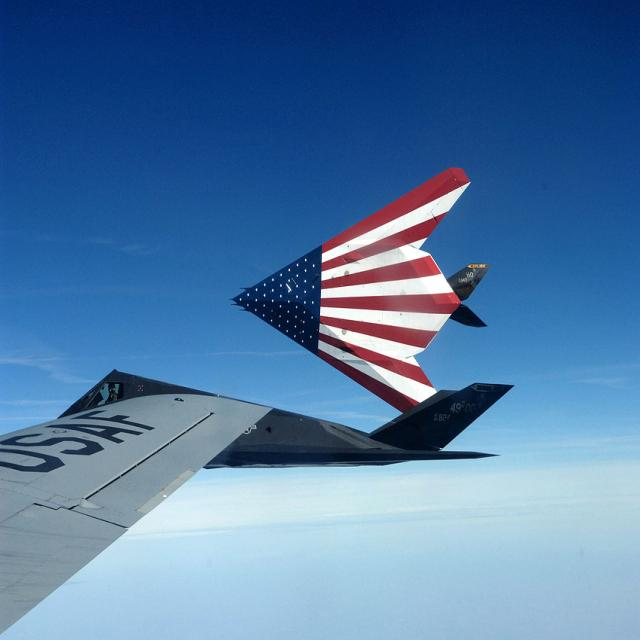MIL_Plane: (227, 166, 495, 415), (56, 367, 515, 469)
